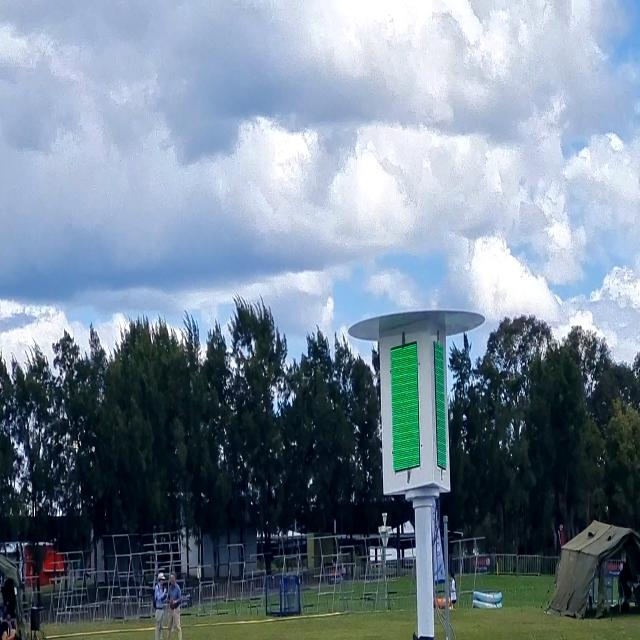led: (384, 335, 428, 478), (432, 330, 446, 471)
